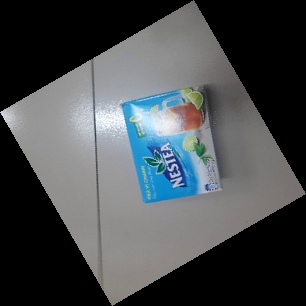Nestea: (122, 84, 223, 201)
